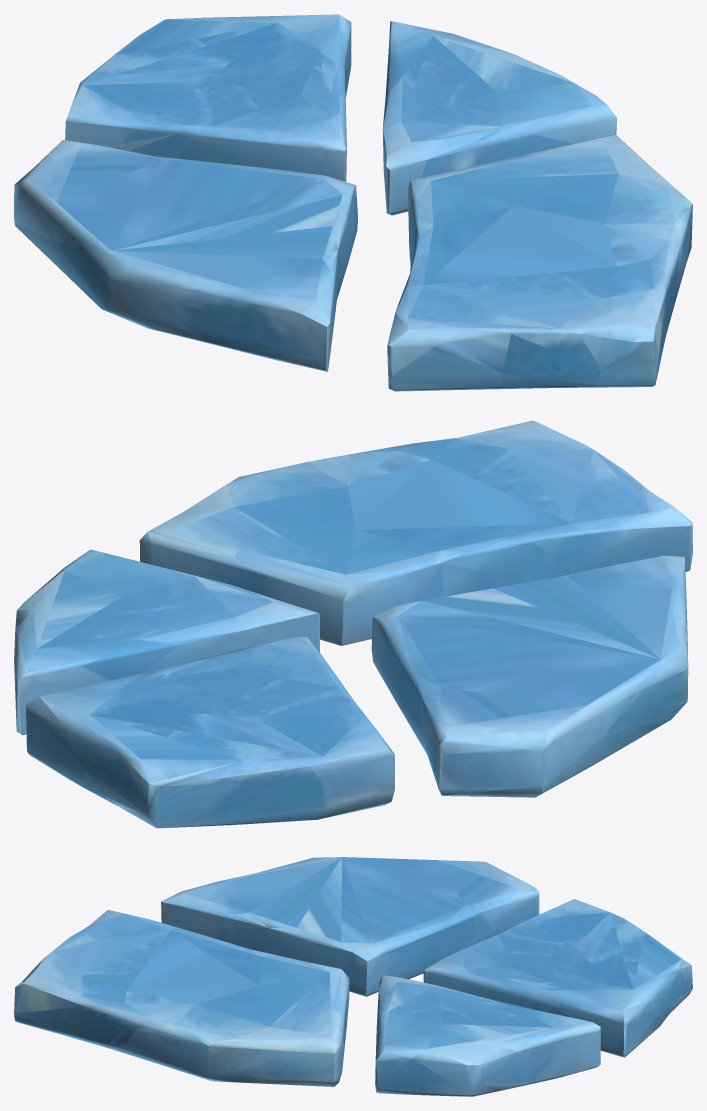
File: placa_hielo_rota_700.glb
3 views of the same model, one above another, from view 1: azimuth 30°, elevation 25°; view 2: azimuth 150°, elevation 25°; view 3: azimuth 270°, elevation 25° (orthographic). The views are drawn at different scales.
Visible parts, largest first — view 1: placa_hielo_rota_malla; view 2: placa_hielo_rota_malla; view 3: placa_hielo_rota_malla.
Boxes of the visible parts, <box> form: placa_hielo_rota_malla: <box>14,14,692,391</box>; placa_hielo_rota_malla: <box>14,420,692,828</box>; placa_hielo_rota_malla: <box>14,857,692,1096</box>.
Size of the model in its own units: 0.2609 by 0.0277 by 0.3712.
1 material, 1 textured.
